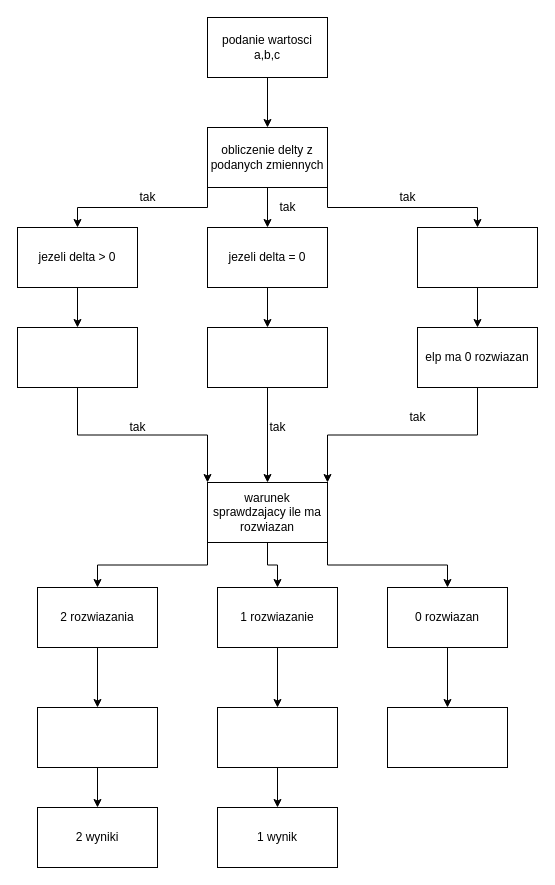
The diagram is 555 pixels wide and 885 high, and some of its shapes have lost their labels. The box of each missing label's shape, as (x1, y1, x2, y2) in pixels:
brak pierwiastkow rzeczywistych: (386, 706, 508, 768)
elp ma 2 rozwiazania: (16, 326, 138, 388)
elp ma jedno rozwiazanie: (206, 326, 328, 388)
jezeli delta < 0: (416, 226, 538, 288)
obliczenie pierwiastka dla jednego rozwizania: (216, 706, 338, 768)
obliczenie pierwiastkow dla 2 rozwiazan: (36, 706, 158, 768)
